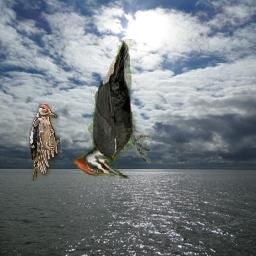Woodpecker: (73, 39, 152, 179), (30, 105, 61, 182)
